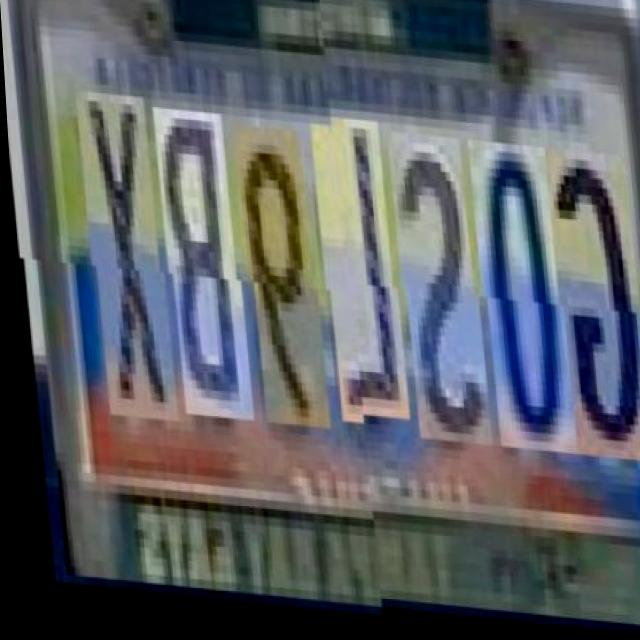9: (231, 133, 318, 436)
b: (150, 118, 242, 430)
g: (542, 160, 640, 472)
l: (308, 131, 397, 433)
o: (465, 153, 565, 465)
s: (384, 146, 481, 458)
x: (73, 103, 166, 433)
